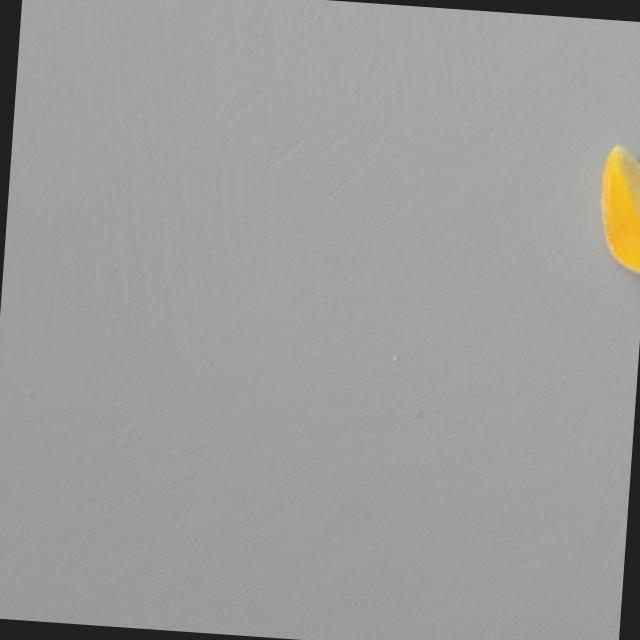estandar: (594, 140, 640, 275)
